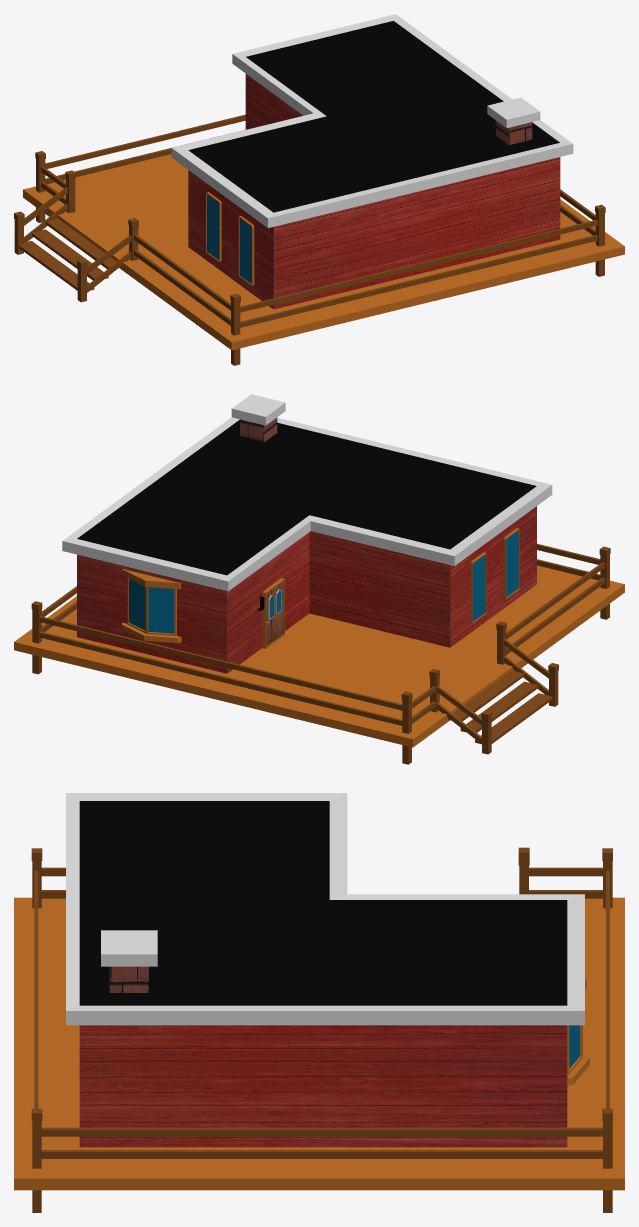
Rendered from Village_house_4.fbx.
The picture shows the model from 3 angles, top to bottom: view 1: azimuth 30°, elevation 25°; view 2: azimuth 150°, elevation 25°; view 3: azimuth 270°, elevation 25°; orthographic projection. The views are drawn at different scales.
Visible parts, largest first — view 1: Cube.312; view 2: Cube.312; view 3: Cube.312.
Part boxes in pixels (bbox=[...]): Cube.312: bbox=[14, 14, 624, 365]; Cube.312: bbox=[14, 394, 624, 764]; Cube.312: bbox=[14, 793, 624, 1212].
Size of the model in its own units: 2207 by 758 by 1830.
